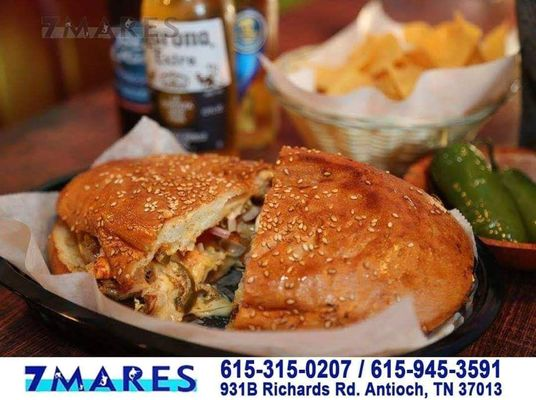soup: (228, 146, 477, 340), (48, 153, 275, 323)
sushi: (261, 0, 522, 177)
